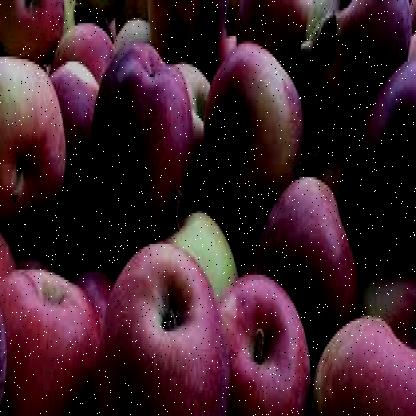apple: (112, 250, 228, 414), (96, 46, 190, 216), (256, 178, 360, 324), (206, 36, 305, 185), (2, 268, 102, 405), (307, 2, 414, 126), (224, 272, 315, 410), (2, 54, 64, 234), (317, 298, 412, 414), (356, 61, 414, 202), (46, 54, 108, 172)
